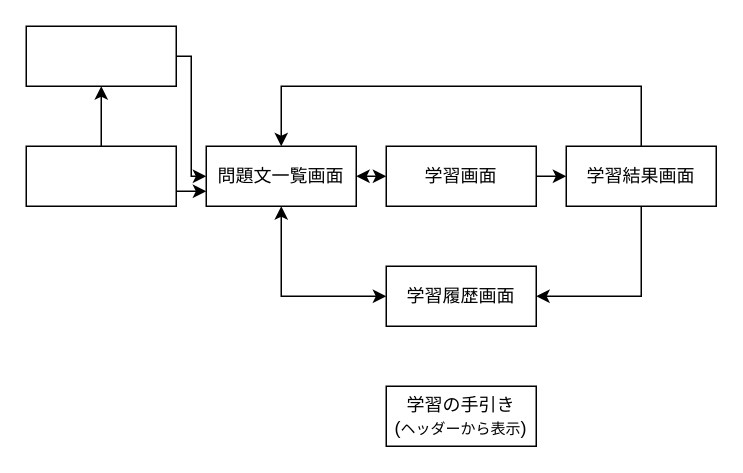
Image size: 743x473. Some labels were removed from this diagram. The centre of each missing label's shape, as x and y in pixels:
ユーザー登録画面: (100,55)
ログイン画面: (100,175)
